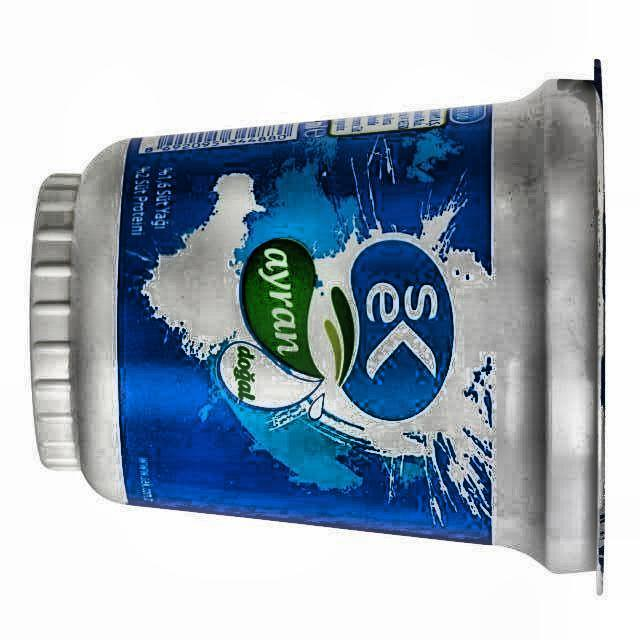plastic: (31, 61, 604, 590)
